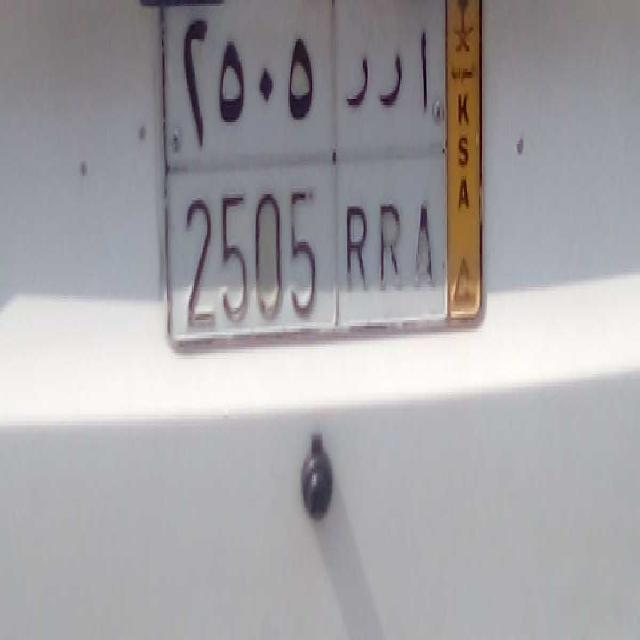license_plate: (167, 155, 446, 342)
